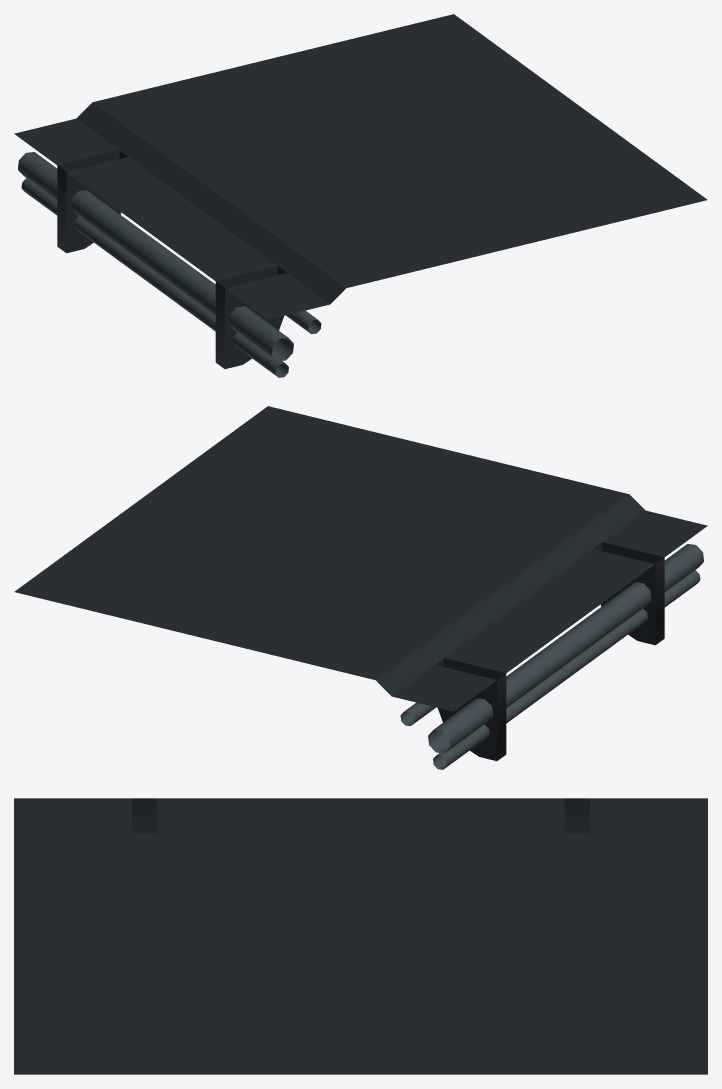
File: ceilingClear.fbx
The picture shows the model from 3 angles, top to bottom: view 1: azimuth 30°, elevation 25°; view 2: azimuth 150°, elevation 25°; view 3: azimuth 270°, elevation 25°; orthographic projection. The views are drawn at different scales.
Visible parts, largest first — view 1: ceilingClear; view 2: ceilingClear; view 3: ceilingClear.
Part boxes in pixels (<box>): ceilingClear: <box>14,14,707,377</box>; ceilingClear: <box>14,406,707,769</box>; ceilingClear: <box>14,798,707,1074</box>.
Size of the model in its own units: 2 by 2 by 0.4062.
